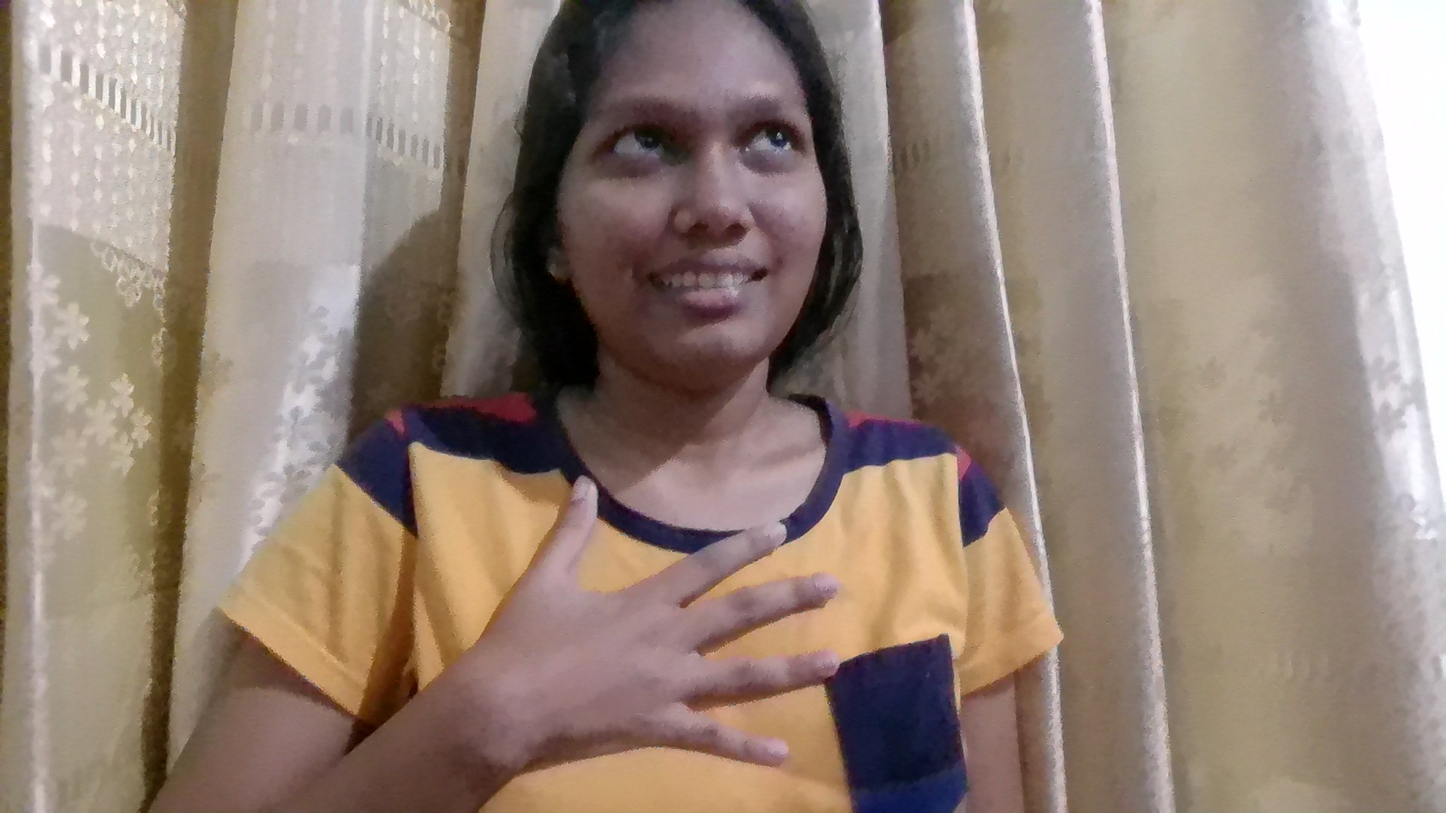Please: (448, 462, 842, 793)
